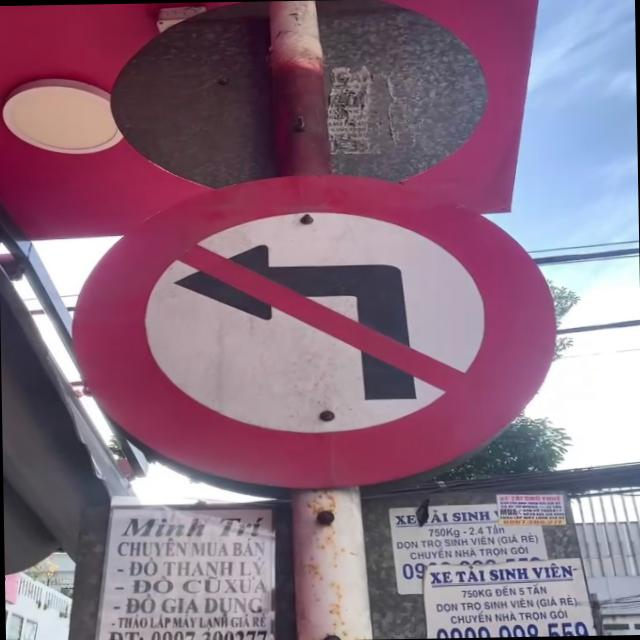Cam_Re_Trai: (66, 168, 559, 492)
